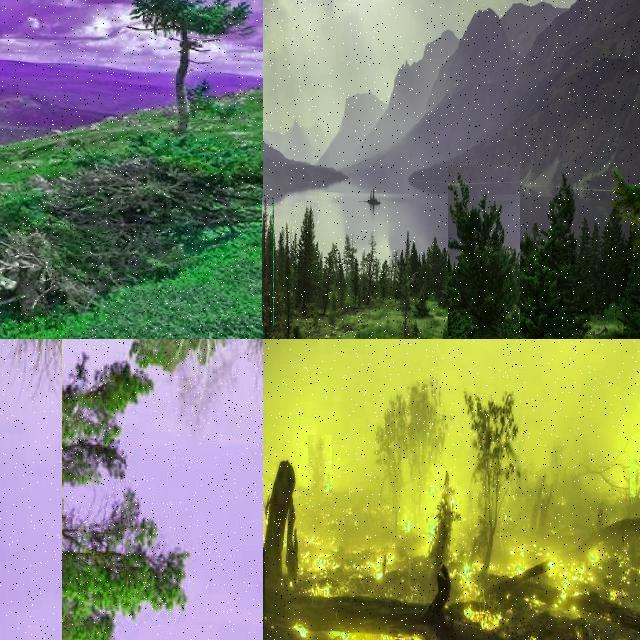tree: (62, 339, 263, 640), (124, 0, 248, 108), (448, 165, 520, 339), (466, 392, 518, 576), (406, 376, 446, 542), (374, 392, 414, 540), (608, 433, 640, 527), (294, 202, 318, 326), (398, 229, 422, 333), (262, 198, 274, 326), (308, 435, 332, 497), (630, 456, 640, 526)
